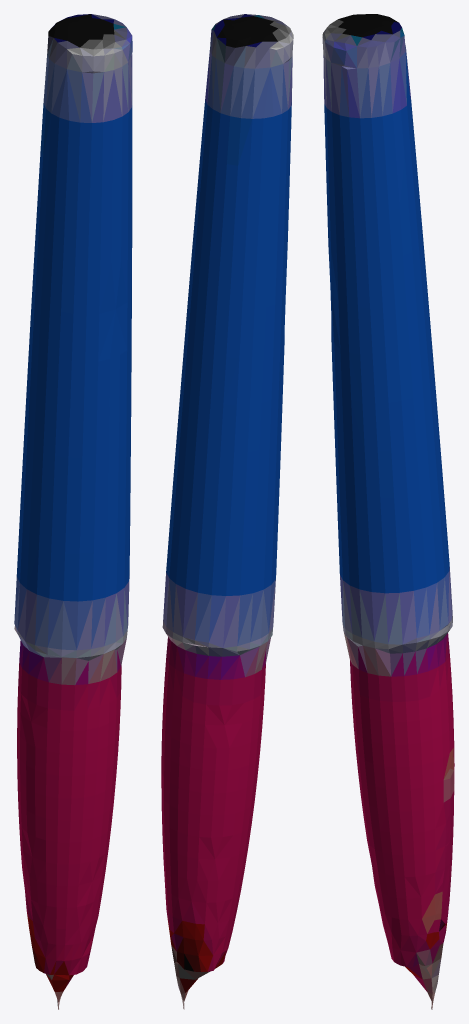
File: pen0.9x0.8x7.7m.dae
3 renders of one model, left to right at view 1: azimuth 90°, elevation 25°; view 2: azimuth 150°, elevation 25°; view 3: azimuth 330°, elevation 25°, orthographic. The views are drawn at different scales.
Parts seen in each view (by area): view 1: pen0.9x0.8x7.7m; view 2: pen0.9x0.8x7.7m; view 3: pen0.9x0.8x7.7m.
Part boxes in pixels (x1,y1,x2,y2): pen0.9x0.8x7.7m: (14, 14, 132, 1009); pen0.9x0.8x7.7m: (161, 14, 293, 1009); pen0.9x0.8x7.7m: (322, 14, 454, 1009).
Bounding box in the file's own units: 0.8983 × 0.8218 × 7.73.
